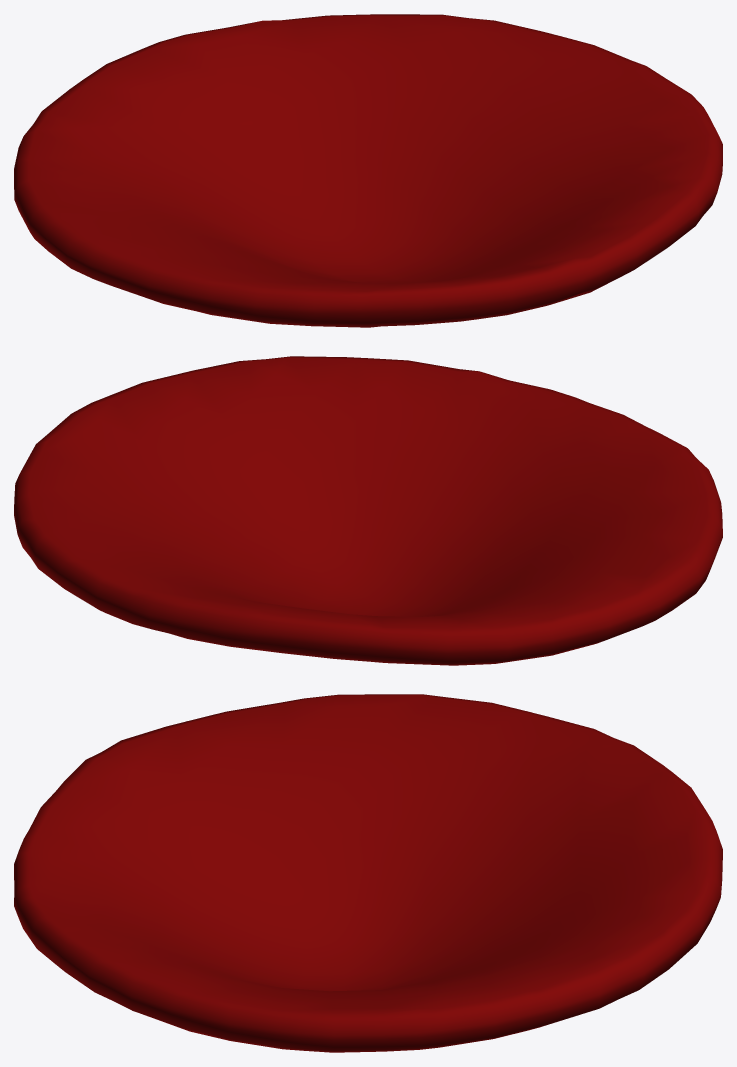
Rendered from peperoni.fbx.
3 renders of one model, top to bottom at view 1: azimuth 30°, elevation 25°; view 2: azimuth 150°, elevation 25°; view 3: azimuth 270°, elevation 25°, orthographic. The views are drawn at different scales.
Parts seen in each view (by area): view 1: chorizo; view 2: chorizo; view 3: chorizo.
Part boxes in pixels (<box>): chorizo: <box>14,14,722,327</box>; chorizo: <box>14,356,722,665</box>; chorizo: <box>14,694,722,1052</box>.
Bounding box in the file's own units: 59.88 × 13.48 × 54.31.
